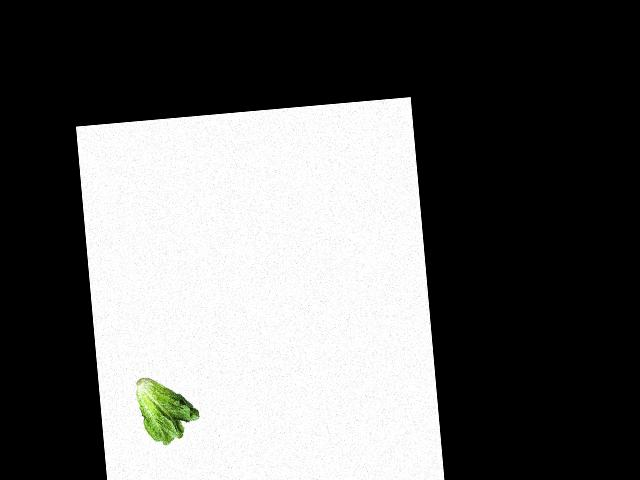lettuce: (131, 375, 205, 447)
